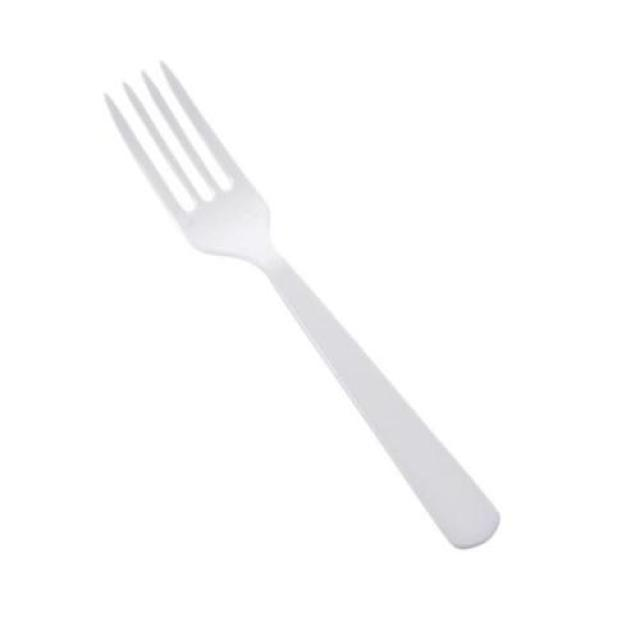spoon: (105, 62, 499, 548)
